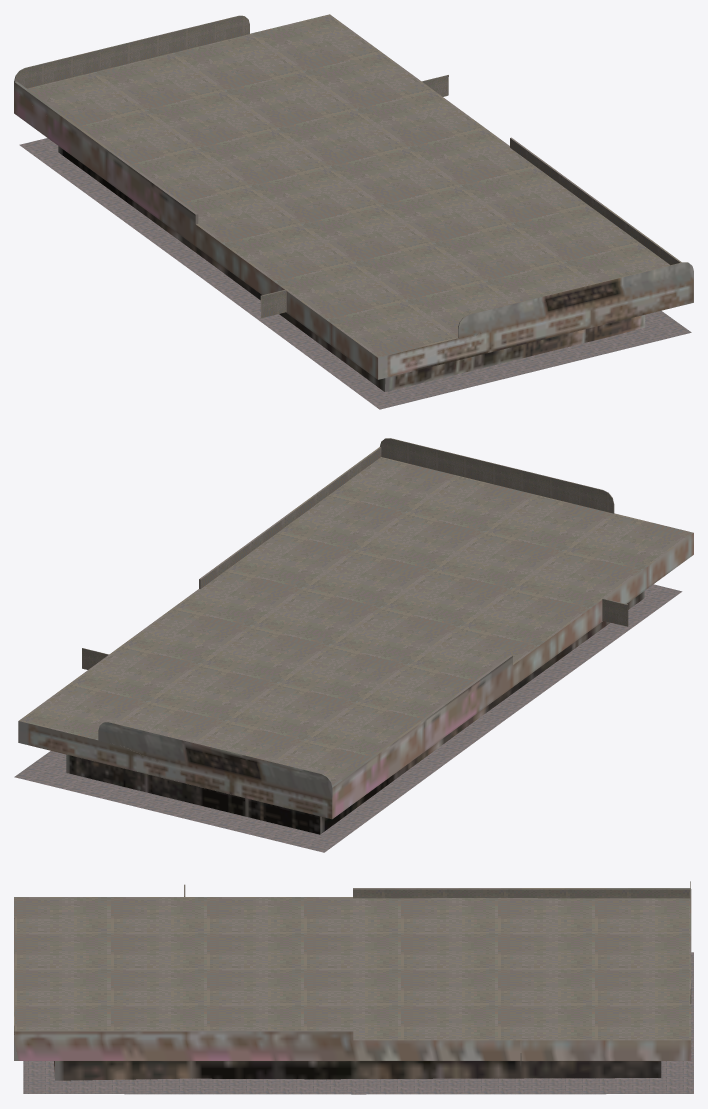
File: lodp13_lvs.obj
The picture shows the model from 3 angles, top to bottom: view 1: azimuth 30°, elevation 25°; view 2: azimuth 150°, elevation 25°; view 3: azimuth 270°, elevation 25°; orthographic projection. The views are drawn at different scales.
Visible parts, largest first — view 1: lodp13_lvs; view 2: lodp13_lvs; view 3: lodp13_lvs.
Boxes of the visible parts, x1=… form: lodp13_lvs: x1=14, y1=14, x2=693, y2=409; lodp13_lvs: x1=14, y1=438, x2=693, y2=852; lodp13_lvs: x1=14, y1=881, x2=693, y2=1094.
Size of the model in its own units: 47.22 by 11.07 by 81.1.
4 materials, 4 textured.
